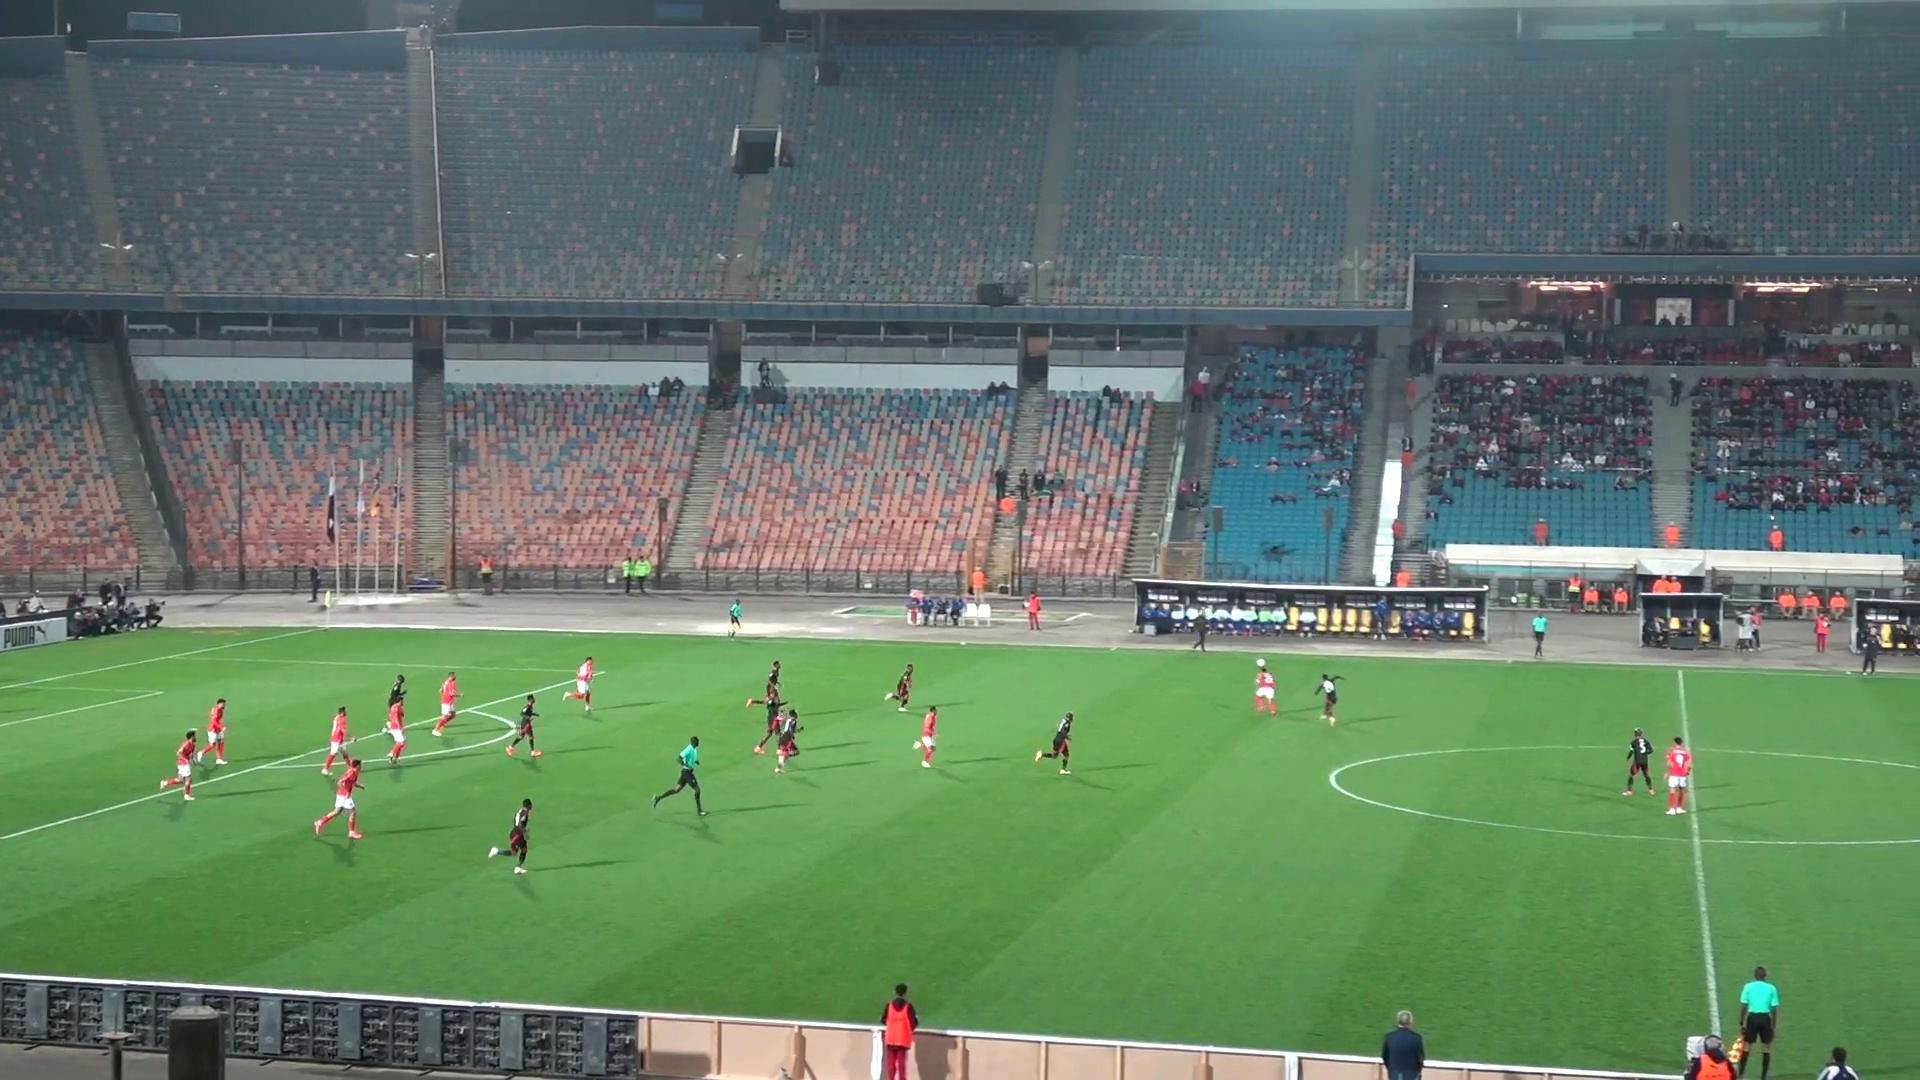Ball: (1255, 659, 1266, 670)
Refree: (1735, 965, 1782, 1079), (651, 736, 707, 816), (700, 599, 744, 638), (1532, 599, 1548, 658)
Team1: (313, 754, 363, 837), (160, 731, 199, 800), (191, 698, 225, 765), (563, 657, 603, 712), (1665, 736, 1693, 815), (431, 673, 460, 736), (382, 691, 406, 764), (913, 707, 938, 767), (1254, 661, 1276, 713)
Team2: (491, 798, 533, 873), (753, 709, 803, 771), (1033, 712, 1073, 773), (745, 659, 789, 716), (505, 695, 542, 757), (320, 707, 353, 775), (1623, 728, 1654, 795), (1313, 673, 1342, 725), (884, 663, 914, 709), (385, 674, 407, 709)
